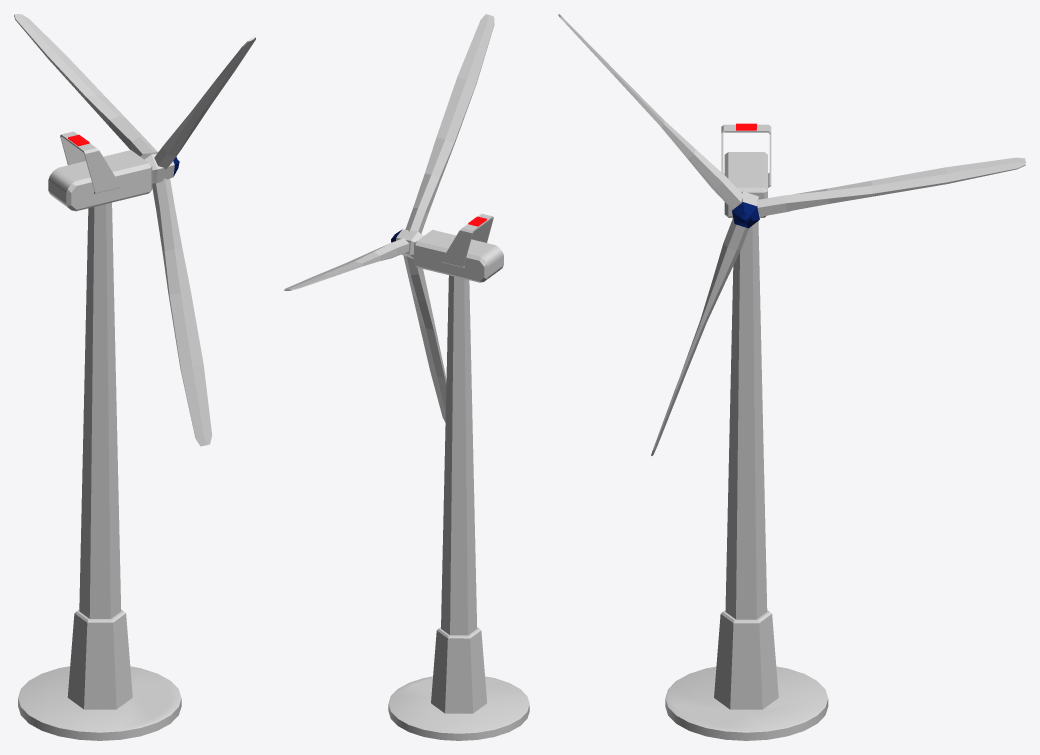
File: windtower.glb
3 views of the same model, side by side, from view 1: azimuth 30°, elevation 25°; view 2: azimuth 150°, elevation 25°; view 3: azimuth 270°, elevation 25° (orthographic). The views are drawn at different scales.
Parts seen in each view (by area): view 1: windtower, windhead; view 2: windtower, windhead; view 3: windtower, windhead.
Boxes of the visible parts, box(x1,y1,x2,y2) form: windtower: box(18, 131, 181, 740); windhead: box(14, 14, 255, 446); windtower: box(388, 214, 529, 740); windhead: box(284, 14, 494, 422); windtower: box(665, 123, 828, 740); windhead: box(558, 14, 1025, 455).
Bounding box in the file's own units: 9.4 × 43.2 × 25.42.
